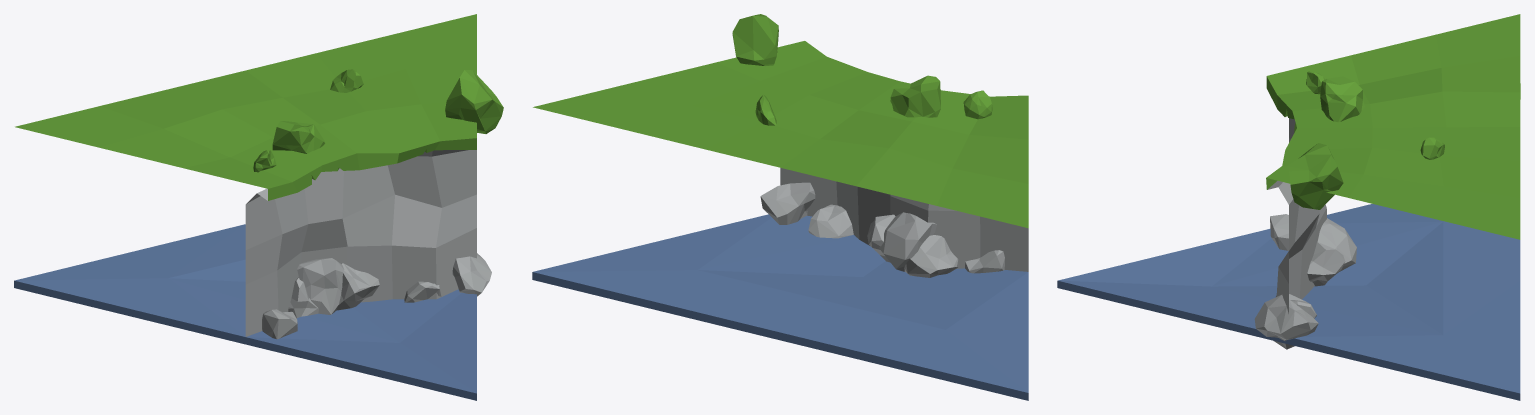
3 views of the same model, side by side, from view 1: azimuth 30°, elevation 25°; view 2: azimuth 150°, elevation 25°; view 3: azimuth 270°, elevation 25° (orthographic). The views are drawn at different scales.
Visible parts, largest first — view 1: hill.001, water6, bush1.002, rock0.011, bush2.002, rock0.008, rock0.007, rock0.012, rock0.010, bush3.002, rock0.009; view 2: hill.001, water6, bush1.002, rock0.011, rock0.008, bush2.002, rock0.010, rock0.009, rock0.012, bush4.001, rock0.007, bush3.002; view 3: water6, hill.001, bush1.002, rock0.008, bush2.002, rock0.007, rock0.011, rock0.012, bush3.002.
Part boxes in pixels (x1=…): hill.001: x1=15, y1=14, x2=476, y2=336; water6: x1=14, y1=224, x2=476, y2=400; bush1.002: x1=445, y1=70, x2=503, y2=133; rock0.011: x1=297, y1=258, x2=344, y2=314; bush2.002: x1=272, y1=121, x2=325, y2=153; rock0.008: x1=452, y1=253, x2=491, y2=296; rock0.007: x1=336, y1=263, x2=379, y2=310; rock0.012: x1=262, y1=309, x2=297, y2=339; rock0.010: x1=288, y1=277, x2=318, y2=318; bush3.002: x1=330, y1=69, x2=363, y2=92; rock0.009: x1=404, y1=281, x2=441, y2=302; hill.001: x1=533, y1=41, x2=1028, y2=271; water6: x1=532, y1=214, x2=1028, y2=400; bush1.002: x1=732, y1=14, x2=778, y2=65; rock0.011: x1=879, y1=212, x2=936, y2=271; rock0.008: x1=760, y1=182, x2=815, y2=224; bush2.002: x1=890, y1=75, x2=940, y2=117; rock0.010: x1=904, y1=235, x2=958, y2=277; rock0.009: x1=808, y1=204, x2=853, y2=238; rock0.012: x1=965, y1=250, x2=1004, y2=273; bush4.001: x1=963, y1=90, x2=992, y2=119; rock0.007: x1=867, y1=214, x2=895, y2=262; bush3.002: x1=755, y1=94, x2=776, y2=125; water6: x1=1057, y1=204, x2=1520, y2=400; hill.001: x1=1266, y1=14, x2=1520, y2=313; bush1.002: x1=1287, y1=143, x2=1343, y2=209; rock0.008: x1=1254, y1=295, x2=1318, y2=349; bush2.002: x1=1320, y1=76, x2=1364, y2=122; rock0.007: x1=1307, y1=242, x2=1345, y2=286; rock0.011: x1=1317, y1=218, x2=1356, y2=272; rock0.012: x1=1270, y1=214, x2=1288, y2=250; bush3.002: x1=1420, y1=137, x2=1444, y2=159.
Size of the model in its own units: 1 by 0.4629 by 0.8661.
